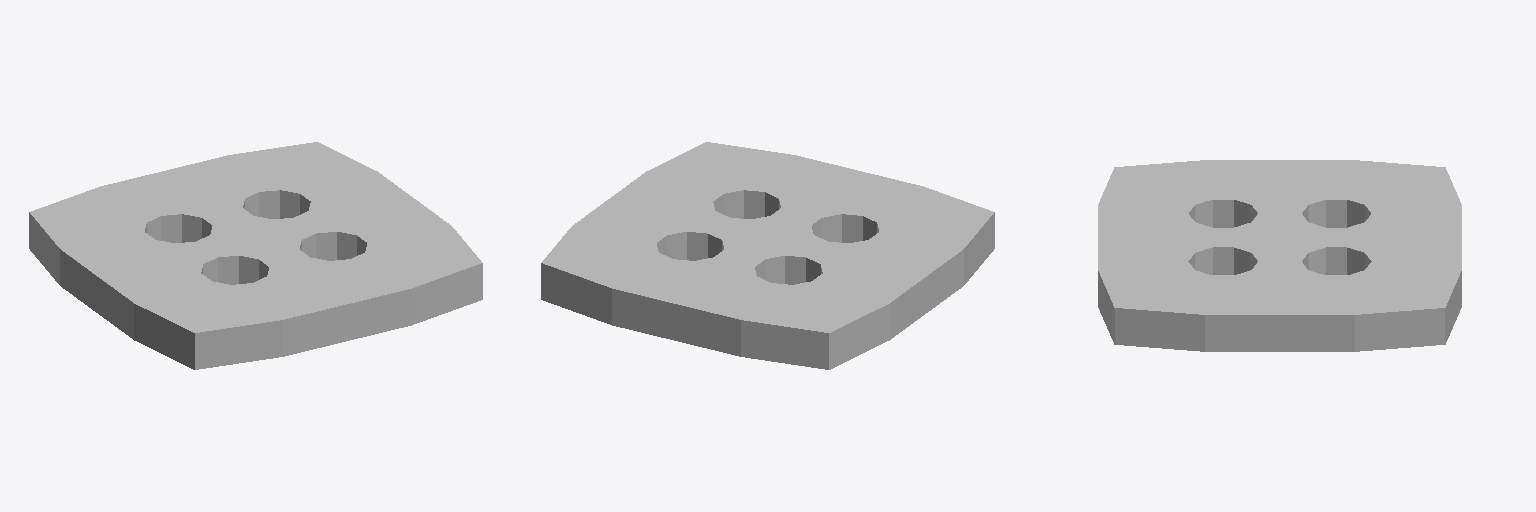
File: ShirtButton2.obj
The picture shows the model from 3 angles: view 1: azimuth 30°, elevation 25°; view 2: azimuth 150°, elevation 25°; view 3: azimuth 270°, elevation 25°; orthographic projection.
Visible parts, largest first — view 1: ShirtButton2; view 2: ShirtButton2; view 3: ShirtButton2.
Part boxes in pixels (bbox=[...]): ShirtButton2: bbox=[29, 142, 482, 369]; ShirtButton2: bbox=[541, 142, 994, 369]; ShirtButton2: bbox=[1098, 160, 1461, 351].
Size of the model in its own units: 0.9414 by 0.1046 by 0.9366.